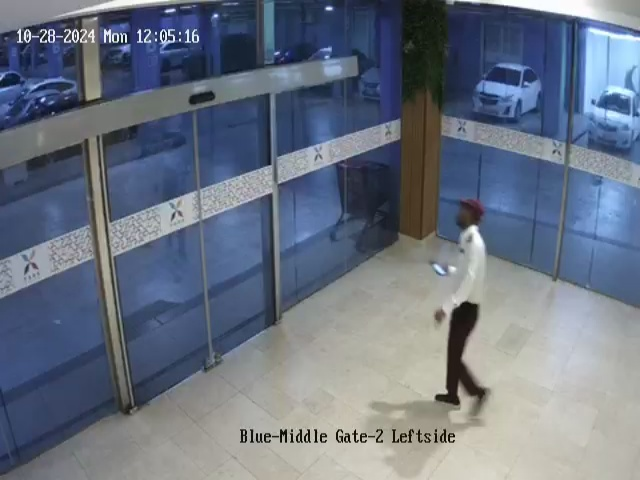male: (432, 198, 491, 418)
